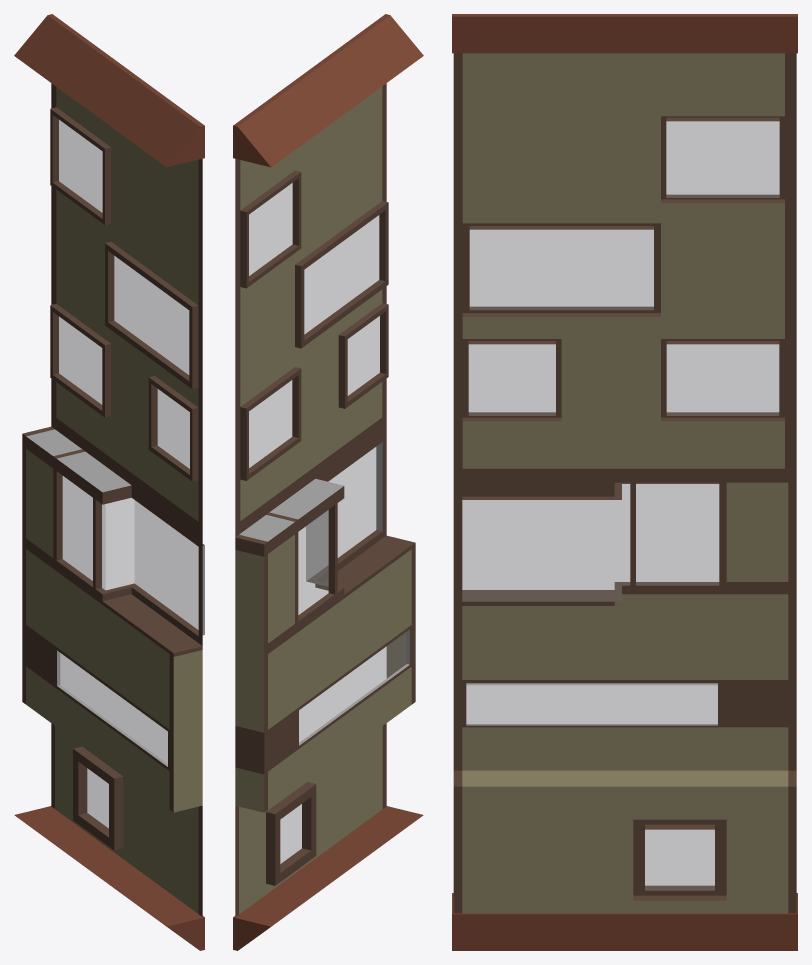
The model's file is SM_Wall_01.fbx.
3 renders of one model, left to right at view 1: azimuth 30°, elevation 25°; view 2: azimuth 150°, elevation 25°; view 3: azimuth 270°, elevation 25°, orthographic. The views are drawn at different scales.
Visible parts, largest first — view 1: Face_09_Down_01; view 2: Face_09_Down_01; view 3: Face_09_Down_01.
Boxes of the visible parts, x1,y1,x2,y2 form: Face_09_Down_01: (14,14,204,950); Face_09_Down_01: (233,14,423,950); Face_09_Down_01: (452,14,797,950).
Size of the model in its own units: 20.94 by 384 by 129.
